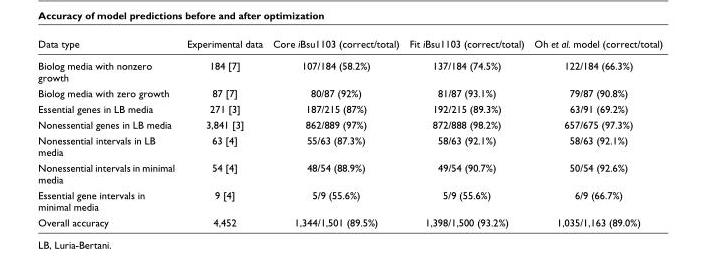table: (37, 37, 662, 227)
table column: (37, 37, 180, 227), (267, 37, 403, 227), (528, 37, 662, 227), (403, 37, 528, 227), (180, 37, 267, 227)
table column header: (37, 37, 662, 54)
table row: (37, 54, 662, 84), (37, 131, 662, 159), (37, 186, 662, 214), (37, 159, 662, 186), (37, 37, 662, 54), (37, 84, 662, 100), (37, 100, 662, 116), (37, 116, 662, 131), (37, 214, 662, 227)
